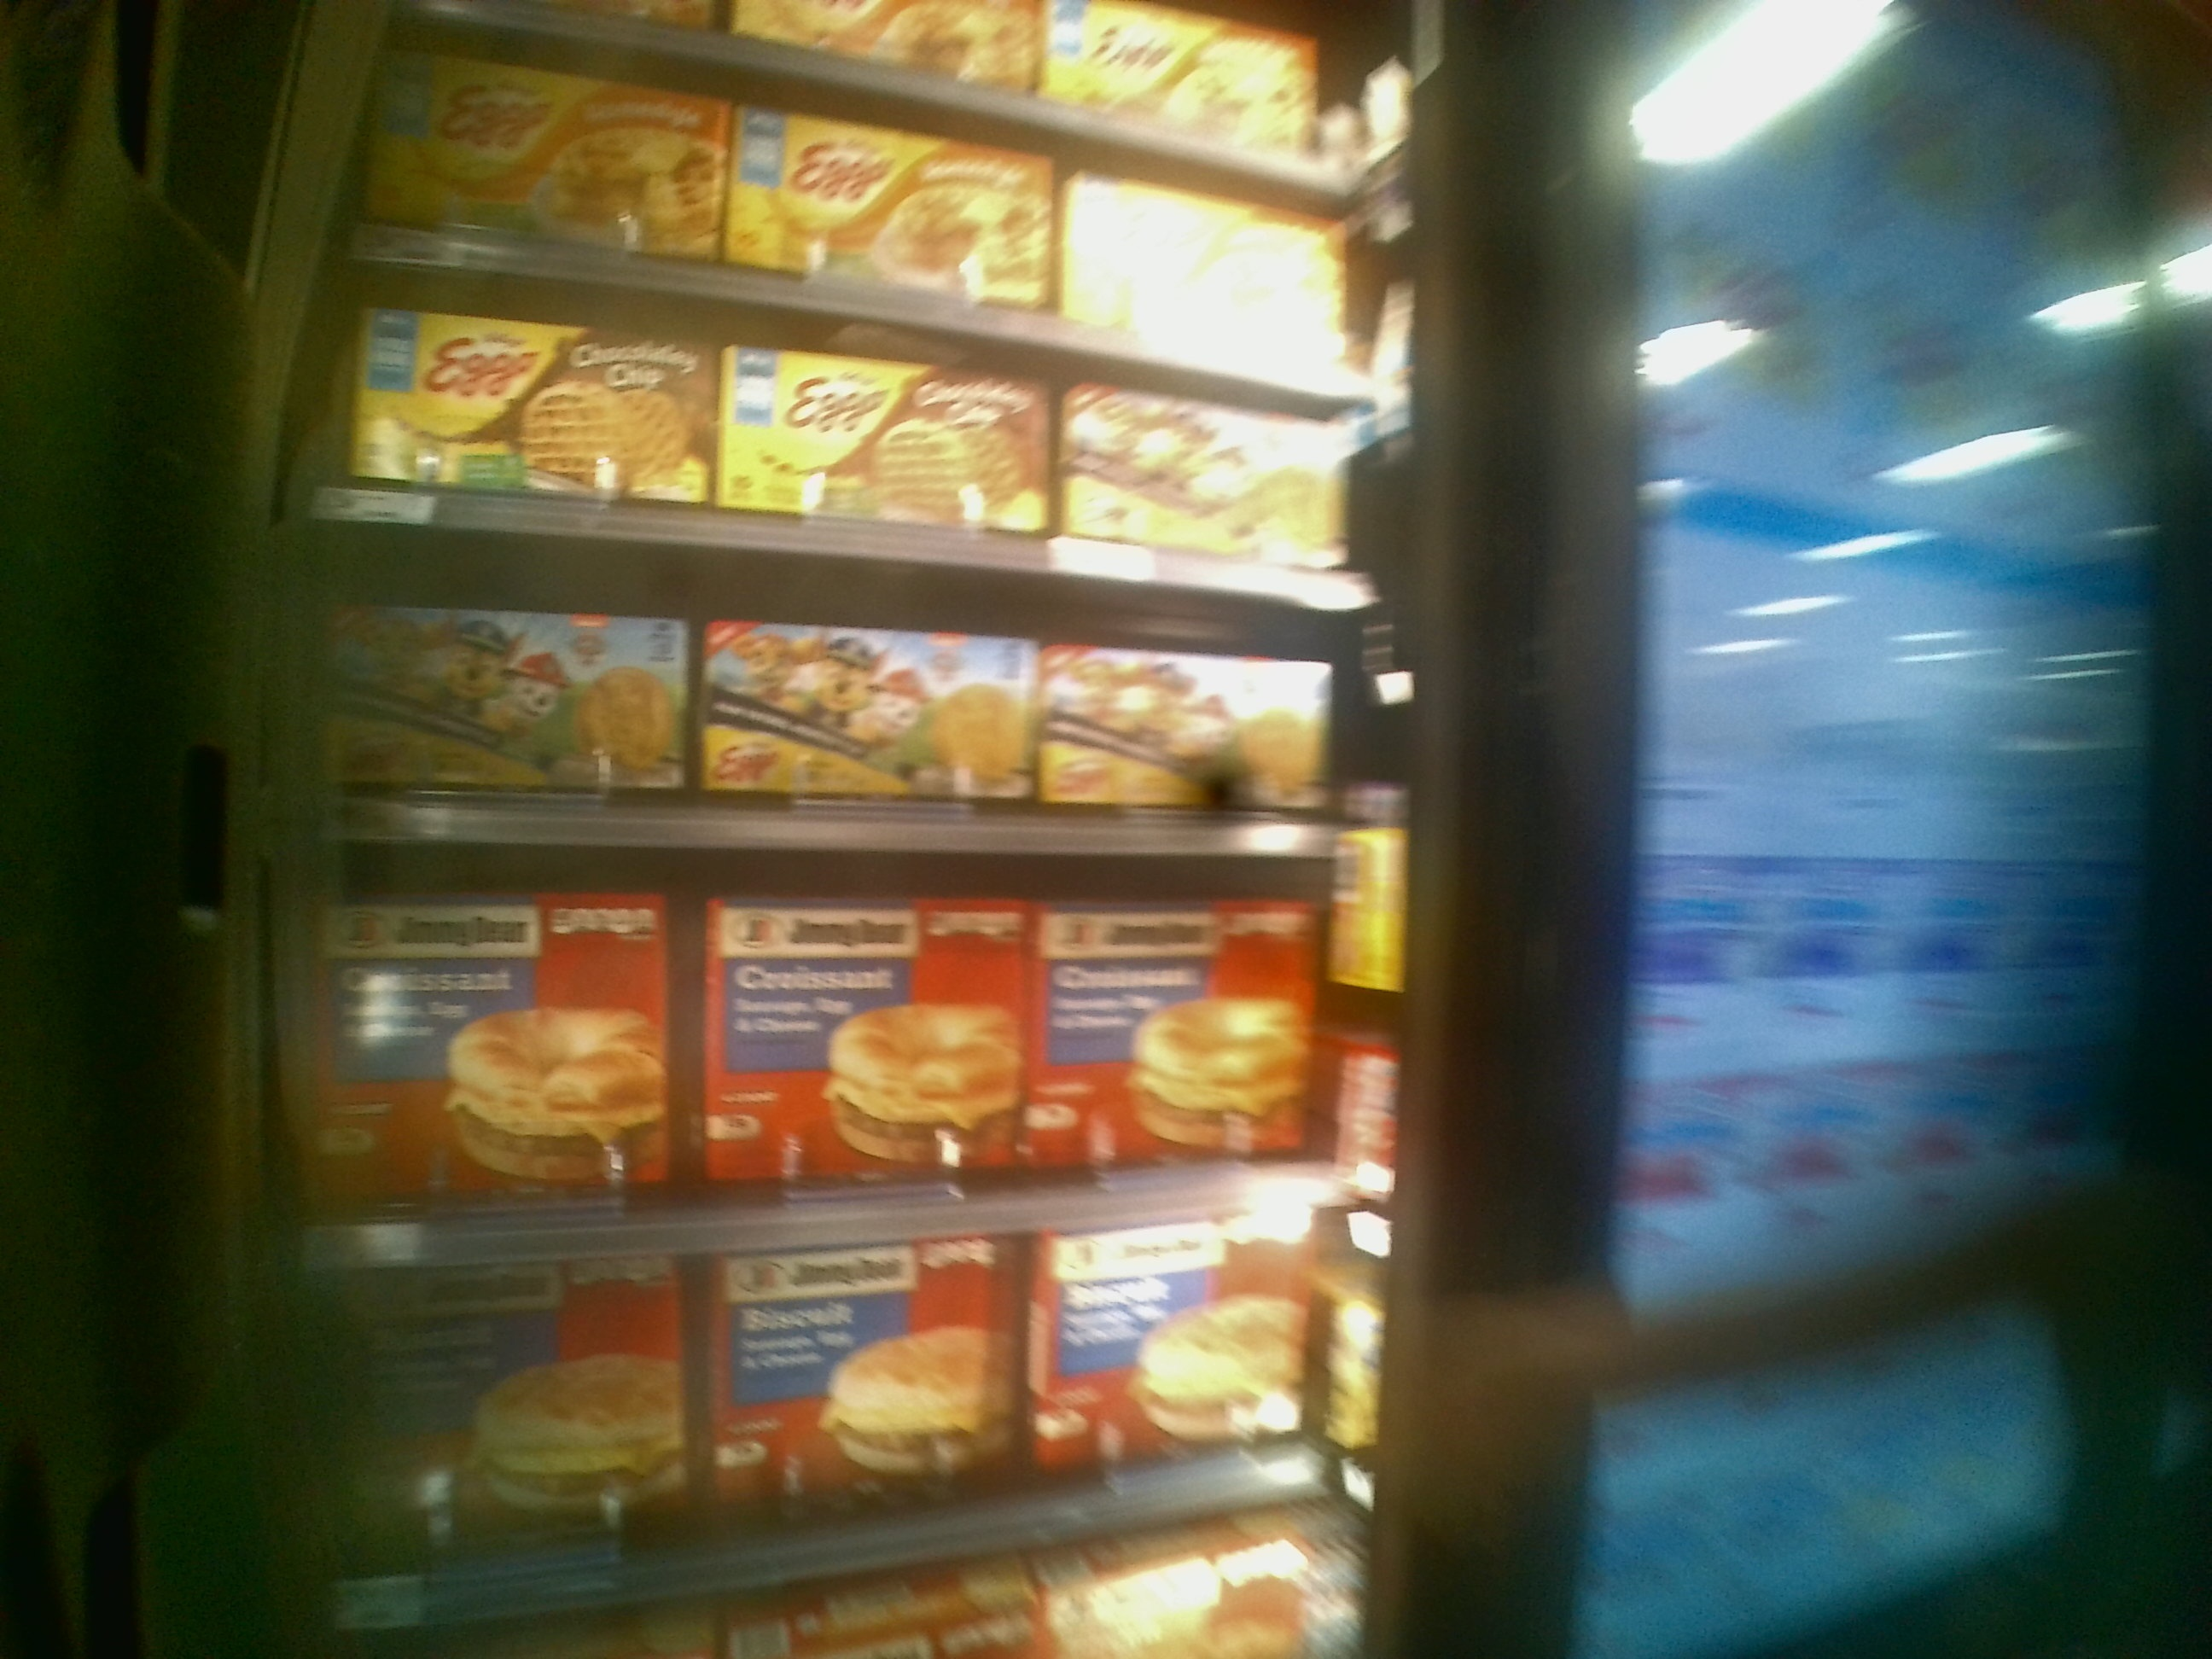shelf: (307, 836, 1406, 1260), (303, 1188, 1378, 1610), (329, 244, 1383, 608), (303, 518, 1374, 849)
